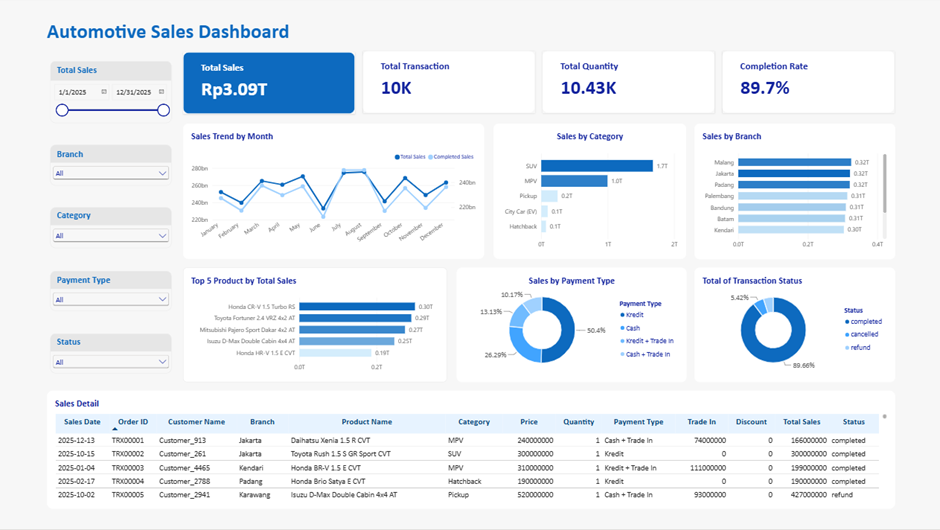

The page's visual inventory and layout, read from the dashboard file:
{"tool":"powerbi","page":{"name":"Page 1","canvas":[1920,1080],"ordinal":0},"visuals":[{"type":"donutChart","title":"Total of Transaction Status","fields":{"Category":["Sheet1.status"],"Y":["CountNonNull(Sheet1.order_id)"]},"box":[1418.2,545.9,410.4,234.2],"z":1000},{"type":"donutChart","title":"Sales by Payment Type","fields":{"Category":["Sheet1.payment_type"],"Y":["Sum(Sheet1.total_sales)"]},"box":[933.1,545.3,470,233.8],"z":2000},{"type":"clusteredBarChart","title":"Top 5 Product by Total Sales","fields":{"Category":["Sheet1.product_name"],"Y":["Sum(Sheet1.total_sales)"]},"box":[374.8,545.3,539.2,233.8],"z":3000},{"type":"lineChart","title":"Sales Trend by Month","fields":{"Category":["Date Table.Date.Variation.Date Hierarchy.Month"],"Y":["Sheet1.Total Sales"],"Y2":["Sheet1.Completed Sales"]},"box":[374.8,251.8,615.6,276.8],"z":4000},{"type":"clusteredBarChart","title":"Sales by Category","fields":{"Category":["Sheet1.category"],"Y":["Sum(Sheet1.total_sales)"]},"box":[1009.4,251.8,393.7,276.8],"z":5000},{"type":"clusteredBarChart","title":"Sales by Branch","fields":{"Category":["Sheet1.branch"],"Y":["Sum(Sheet1.total_sales)"]},"box":[1418.2,251.5,410.4,277.2],"z":6000},{"type":"slicer","title":" ","fields":{"Values":["Sheet1.sales_date"]},"box":[102.6,124.1,248.1,126.5],"z":7000},{"type":"slicer","title":" ","fields":{"Values":["Sheet1.payment_type"]},"box":[102.8,552.5,248.1,81.1],"z":8000},{"type":"slicer","title":" ","fields":{"Values":["Sheet1.category"]},"box":[102.8,421.2,248.1,83.5],"z":9000},{"type":"slicer","title":" ","fields":{"Values":["Sheet1.branch"]},"box":[102.8,294.8,248.1,83.5],"z":10000},{"type":"slicer","title":" ","fields":{"Values":["Sheet1.status"]},"box":[102.8,678.9,248.1,81.1],"z":11000},{"type":"tableEx","title":"Sales Detail","fields":{"Values":["Sheet1.sales_date","Sheet1.order_id","Sheet1.customer_name","Sheet1.branch","Sheet1.product_name","Sheet1.category","Sheet1.price","Sheet1.quantity","Sheet1.payment_type","Sheet1.trade_in","Sheet1.discount","Sheet1.total_sales"]},"box":[95.1,795.4,1734,242],"z":12000},{"type":"group","id":"g1","title":"Group 1","box":[1476.5,102.7,351.7,126.7],"z":13000},{"type":"cardVisual","title":"   Completion Rate","fields":{"Data":["Sheet1.Completion Rate"]},"box":[1476.5,102.7,351.7,126.7],"z":14000,"group":"g1"},{"type":"cardVisual","title":"   Completion Rate","fields":{"Data":["Sheet1.Total Transaction"]},"box":[740.6,103.1,351.7,126.7],"z":14000,"group":"g3"},{"type":"cardVisual","title":"   Completion Rate","fields":{"Data":["Sheet1.Total Quantity"]},"box":[1108.1,103.1,351.7,126.7],"z":14000,"group":"g2"},{"type":"group","id":"g2","title":"Group 1","box":[1108.1,103.1,351.2,127.5],"z":14000},{"type":"cardVisual","title":"   Completion Rate","fields":{"Data":["Sheet1.Total Sales"]},"box":[374.8,103.9,351.7,126.7],"z":14000,"group":"g4"},{"type":"group","id":"g3","title":"Group 1","box":[740.6,103.1,351.2,126.2],"z":15000},{"type":"textbox","title":"Total Sales","box":[117.1,130.1,238.6,28.6],"z":16000},{"type":"group","id":"g4","title":"Group 1","box":[374.8,103.9,353.1,126.5],"z":17000},{"type":"textbox","title":"Completion Rate","box":[1513.2,121.9,237.5,30],"z":17000,"group":"g1"},{"type":"textbox","title":"Total Transaction","box":[777.3,122.3,237.5,30],"z":17000,"group":"g3"},{"type":"textbox","title":"Total Quantity","box":[1144.8,122.3,237.5,30],"z":17000,"group":"g2"},{"type":"textbox","title":"Total Sales","box":[411.5,123.1,237.5,30],"z":17000,"group":"g4"},{"type":"textbox","title":"Payment Type","box":[117.1,559.6,236.2,31],"z":18000},{"type":"textbox","title":"Category","box":[117.1,426,236.2,31],"z":19000},{"type":"textbox","title":"Branch","box":[117.1,301.9,236.2,31],"z":20000},{"type":"textbox","title":"Status","box":[117.1,683.7,236.2,31],"z":21000},{"type":"textbox","title":"Automotive Performance Sales Analysis","box":[95,35,1735,55],"z":22000}]}

Visuals, with their boxes in screenshot pixels (x1, y1, x2, y2), scaled from the page's 1920x1080 canvas onto the 940x530 screenshot:
"Total of Transaction Status" donutChart: 694:268:895:383
"Sales by Payment Type" donutChart: 457:268:687:382
"Top 5 Product by Total Sales" clusteredBarChart: 183:268:447:382
"Sales Trend by Month" lineChart: 183:124:485:259
"Sales by Category" clusteredBarChart: 494:124:687:259
"Sales by Branch" clusteredBarChart: 694:123:895:259
" " slicer: 50:61:172:123
" " slicer: 50:271:172:311
" " slicer: 50:207:172:248
" " slicer: 50:145:172:186
" " slicer: 50:333:172:373
"Sales Detail" tableEx: 47:390:895:509
"Group 1" group: 723:50:895:113
"   Completion Rate" cardVisual: 723:50:895:113
"   Completion Rate" cardVisual: 363:51:535:113
"   Completion Rate" cardVisual: 543:51:715:113
"Group 1" group: 543:51:714:113
"   Completion Rate" cardVisual: 183:51:356:113
"Group 1" group: 363:51:535:113
"Total Sales" textbox: 57:64:174:78
"Group 1" group: 183:51:356:113
"Completion Rate" textbox: 741:60:857:75
"Total Transaction" textbox: 381:60:497:75
"Total Quantity" textbox: 560:60:677:75
"Total Sales" textbox: 201:60:318:75
"Payment Type" textbox: 57:275:173:290
"Category" textbox: 57:209:173:224
"Branch" textbox: 57:148:173:163
"Status" textbox: 57:336:173:351
"Automotive Performance Sales Analysis" textbox: 47:17:896:44
